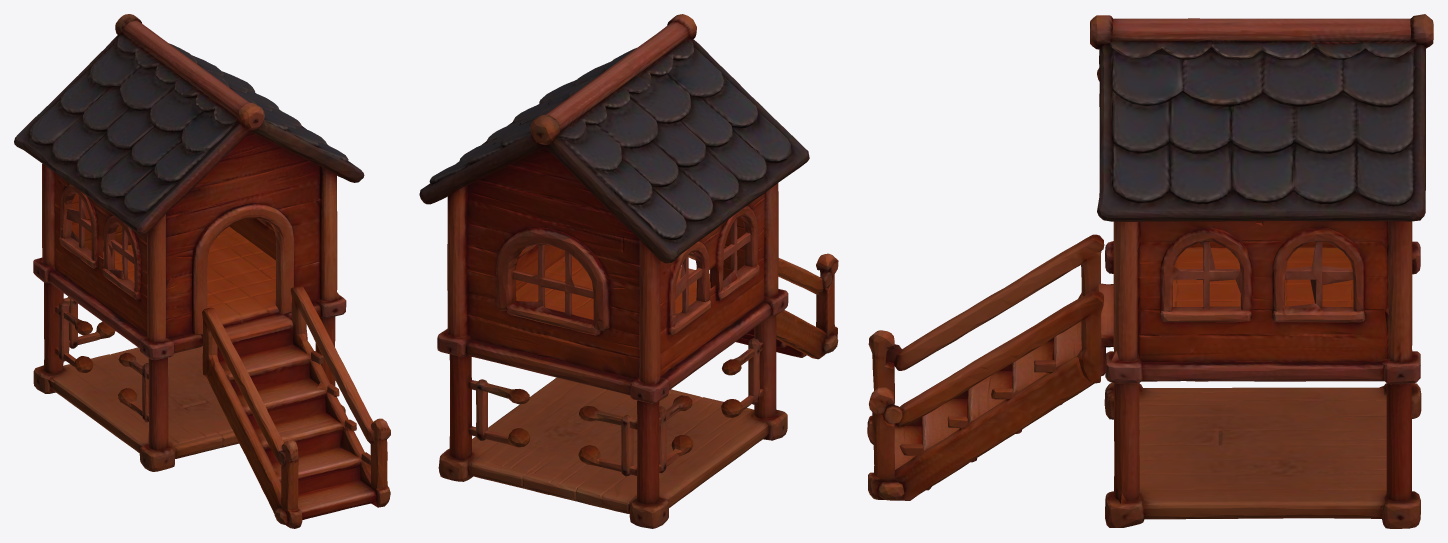
Rendered from DOM_budka_8__brown.glb.
3 views of the same model, side by side, from view 1: azimuth 30°, elevation 25°; view 2: azimuth 150°, elevation 25°; view 3: azimuth 270°, elevation 25° (orthographic). The views are drawn at different scales.
Parts seen in each view (by area): view 1: tripo_node_ac6729f5-73c2-4e4e-95e1-3ff5b1cdb705; view 2: tripo_node_ac6729f5-73c2-4e4e-95e1-3ff5b1cdb705; view 3: tripo_node_ac6729f5-73c2-4e4e-95e1-3ff5b1cdb705.
Boxes of the visible parts, x1,y1,x2,y2 form: tripo_node_ac6729f5-73c2-4e4e-95e1-3ff5b1cdb705: [14, 14, 390, 528]; tripo_node_ac6729f5-73c2-4e4e-95e1-3ff5b1cdb705: [419, 14, 838, 528]; tripo_node_ac6729f5-73c2-4e4e-95e1-3ff5b1cdb705: [867, 14, 1433, 528].
Bounding box in the file's own units: 2.76 × 4 × 4.52.
Materials: 1 (1 with a texture image).
